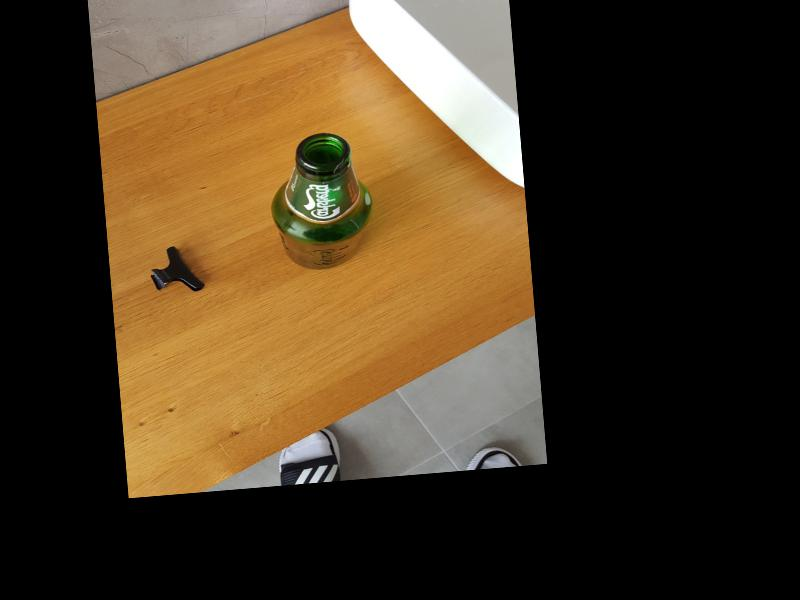Beer: (265, 130, 378, 273)
